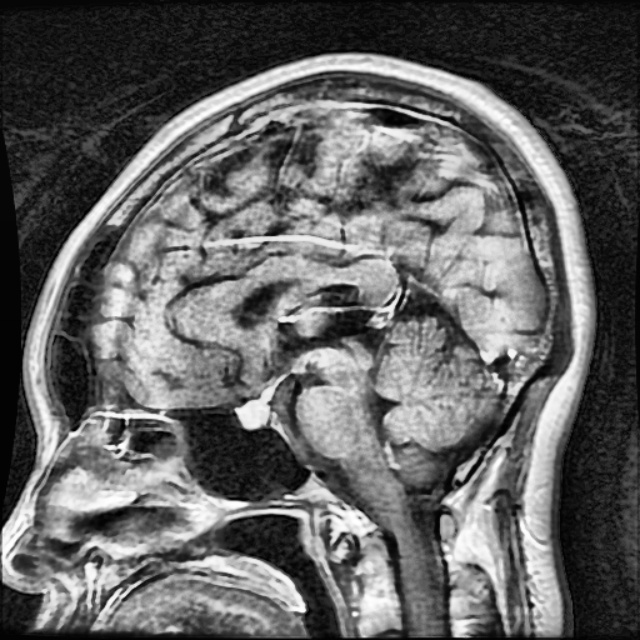Pituitary: (235, 398, 268, 425)
